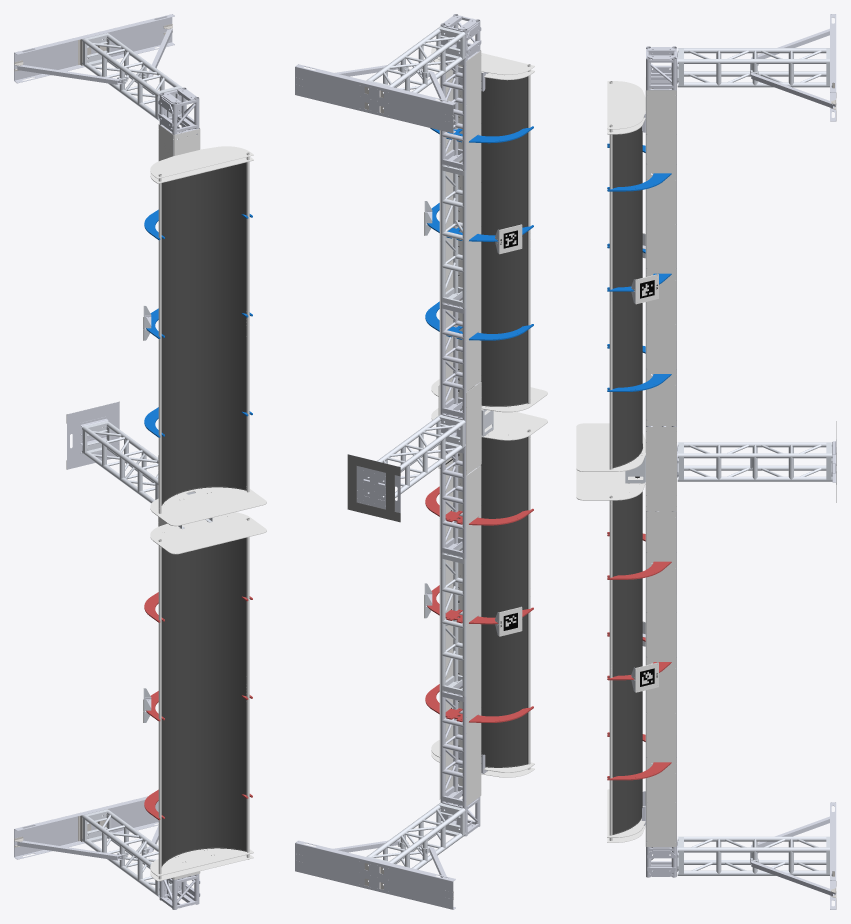
Rendered from CagelessBarge.fbx.
3 renders of one model, left to right at view 1: azimuth 30°, elevation 25°; view 2: azimuth 150°, elevation 25°; view 3: azimuth 270°, elevation 25°, orthographic.
Visible parts, largest first — view 1: GE-25228.001, GE-25228, GE-25203-01, FE-01003.004, GE-25203-01.001, FE-01003.003, GE-25207.001, GE-25207, FE-01003, FE-01020-01, GE-25209-Vinyl, FE-01013.001 (+15 smaller); view 2: GE-25228, GE-25228.001, GE-25203-01.001, GE-25203-01, FE-01003.001, FE-01003.002, FE-01003.003, FE-01003, FE-01003.004, FE-01002.001, FE-01002.002, FE-01002.003 (+31 smaller); view 3: GE-25228, GE-25228.001, FE-01003.003, FE-01003.004, FE-01003, GE-25223.005, GE-25223.006, GE-25223.004, GE-25223.002, GE-25224, GE-25211_Vinyl.001, GE-25224.003 (+17 smaller).
Boxes of the visible parts, box(x1,y1,x2,y2) form: GE-25228.001: box(161, 162, 246, 505); GE-25228: box(161, 537, 246, 866); GE-25203-01: box(14, 14, 174, 83); FE-01003.004: box(82, 33, 182, 120); GE-25203-01.001: box(14, 796, 158, 859); FE-01003.003: box(82, 420, 158, 503); GE-25207.001: box(150, 487, 266, 526); GE-25207: box(150, 512, 266, 554); FE-01003: box(82, 809, 181, 897); FE-01020-01: box(67, 402, 119, 469); GE-25209-Vinyl: box(150, 146, 253, 178); FE-01013.001: box(158, 87, 199, 133); GE-25228: box(445, 437, 527, 767); GE-25228.001: box(458, 76, 527, 406); GE-25203-01.001: box(295, 840, 455, 909); GE-25203-01: box(295, 64, 455, 133); FE-01003.001: box(440, 157, 478, 308); FE-01003.002: box(440, 545, 478, 696); FE-01003.003: box(368, 414, 465, 497); FE-01003: box(366, 802, 465, 885); FE-01003.004: box(366, 26, 465, 108); FE-01002.001: box(440, 295, 479, 418); FE-01002.002: box(440, 683, 480, 806); FE-01002.003: box(440, 446, 479, 558); GE-25228: box(612, 476, 642, 834); GE-25228.001: box(612, 126, 642, 468); FE-01003.003: box(677, 442, 832, 481); FE-01003.004: box(677, 48, 832, 87); FE-01003: box(677, 836, 832, 875); GE-25223.005: box(646, 174, 676, 274); GE-25223.006: box(646, 562, 676, 662); GE-25223.004: box(646, 663, 676, 762); GE-25223.002: box(646, 274, 676, 374); GE-25224: box(646, 90, 676, 174); GE-25211_Vinyl.001: box(646, 427, 676, 510); GE-25224.003: box(646, 763, 676, 846).
Bounding box in the file's own units: 183 × 890 × 257.
